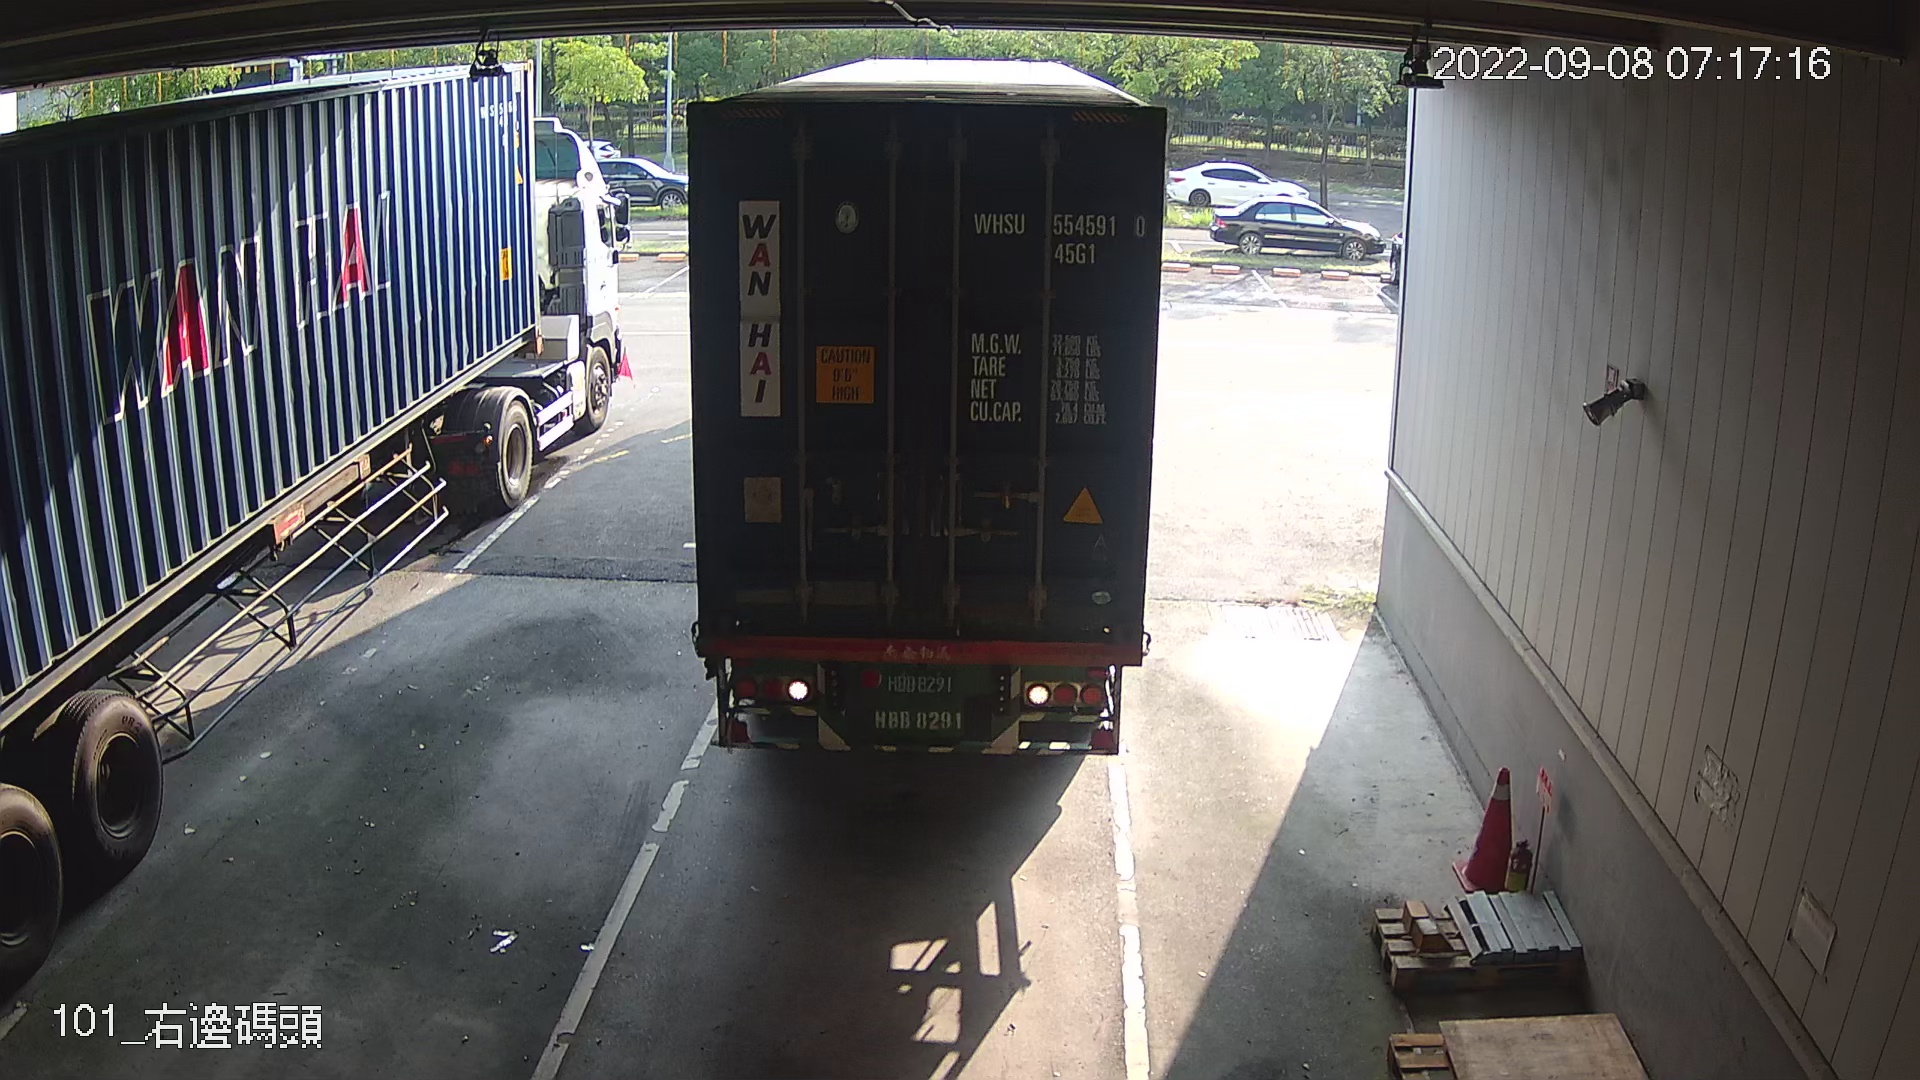container: (969, 200, 1154, 272)
